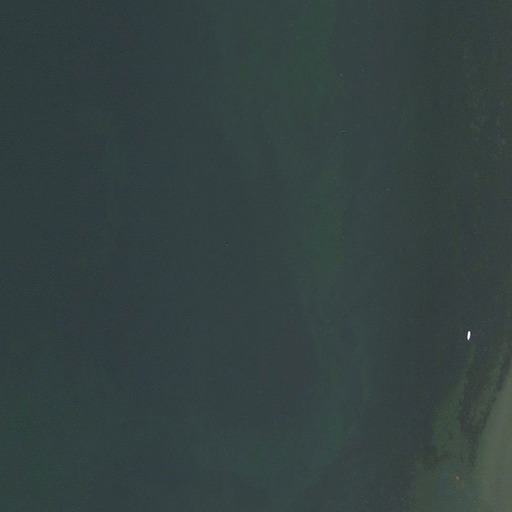ship: (465, 329, 470, 340)
